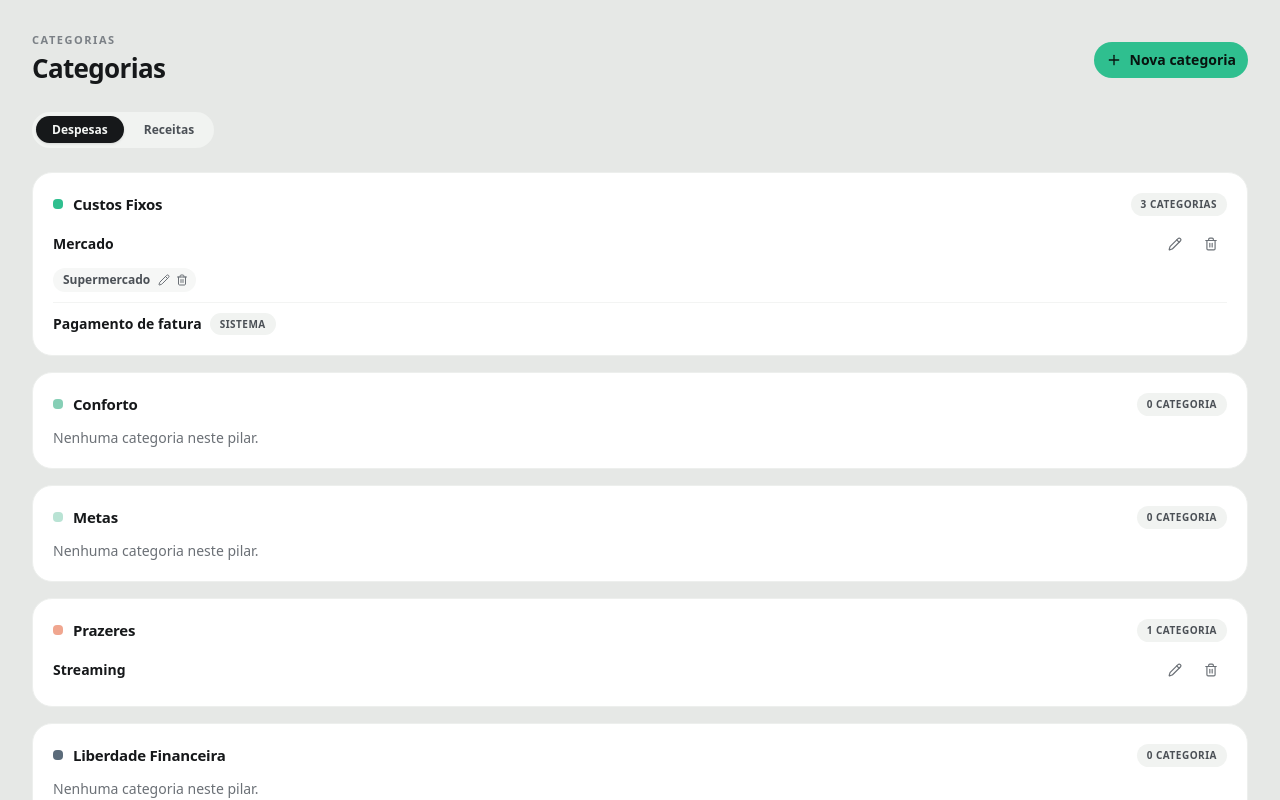
CategoriesPage › keeps income categories in their own tab and without a pillar
Expected: the text "Mercado" is shown, [53,234,114,254]
Expected: the text "Salário" is not shown
Click the tab "Receitas": click(169, 130) [128,116,210,143]
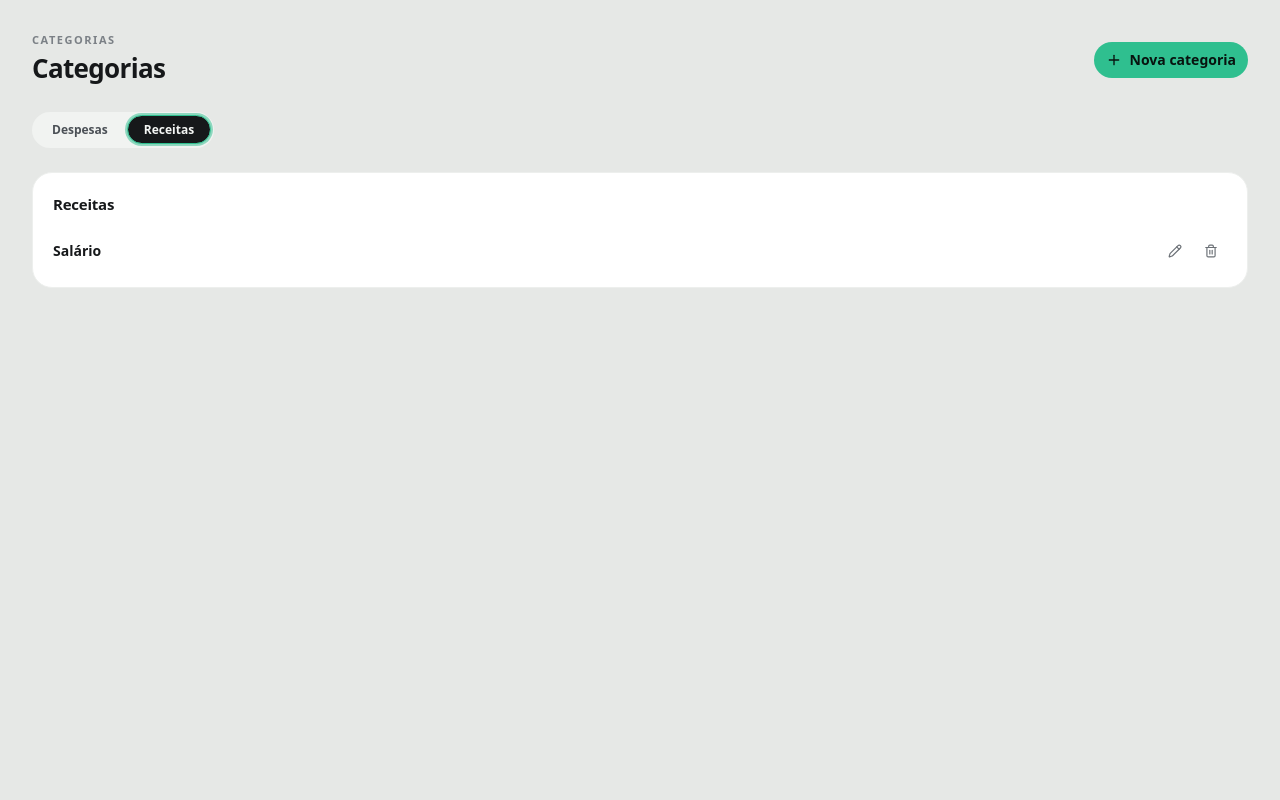
Expected: the text "Salário" is shown, [53,241,101,261]
